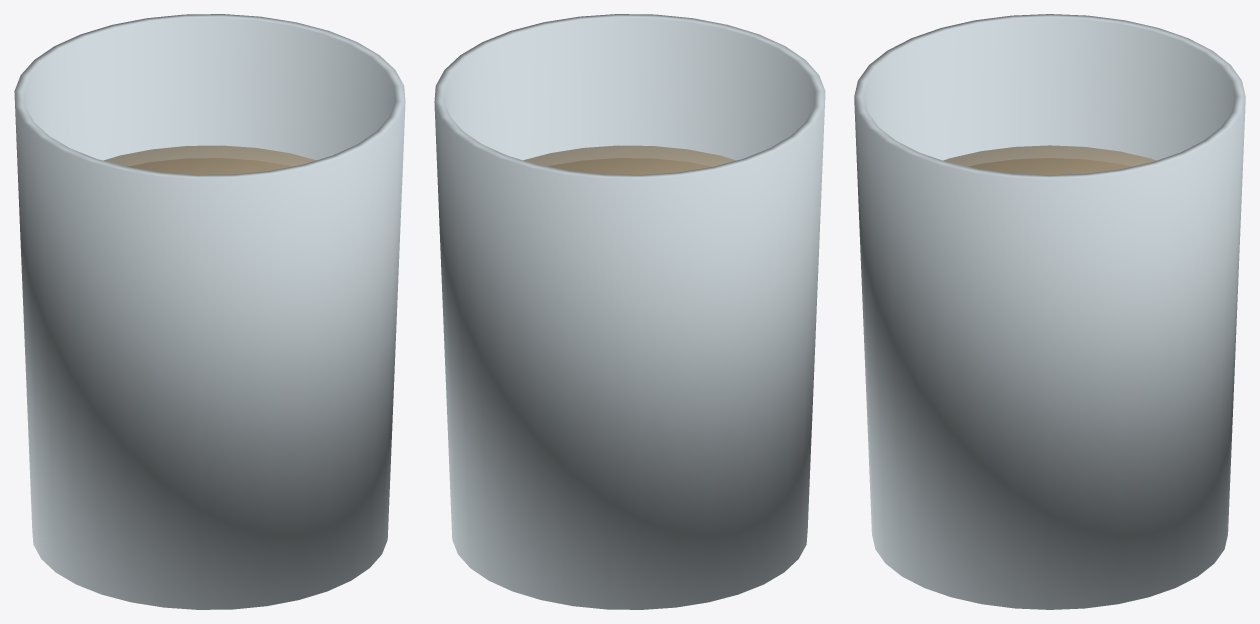
The model's file is muddy_water.glb.
The picture shows the model from 3 angles, left to right: view 1: azimuth 30°, elevation 25°; view 2: azimuth 150°, elevation 25°; view 3: azimuth 270°, elevation 25°; orthographic projection.
Visible parts, largest first — view 1: mud_glass, water_body; view 2: mud_glass, water_body; view 3: mud_glass, water_body.
Part boxes in pixels (x1,y1,x2,y2): mud_glass: (14,14,405,609); water_body: (103,145,316,174); mud_glass: (434,14,825,609); water_body: (523,145,736,174); mud_glass: (854,14,1245,609); water_body: (943,145,1156,175).
Bounding box in the file's own units: 0.077 × 0.095 × 0.077.
